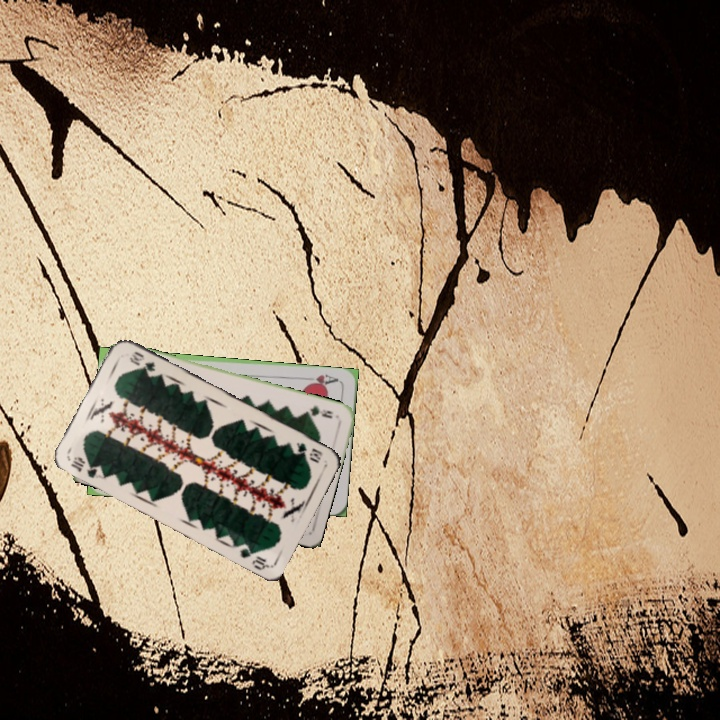G10: (66, 452, 105, 481), (292, 438, 325, 466)
G9: (300, 401, 336, 421)
HA: (301, 370, 341, 389)
